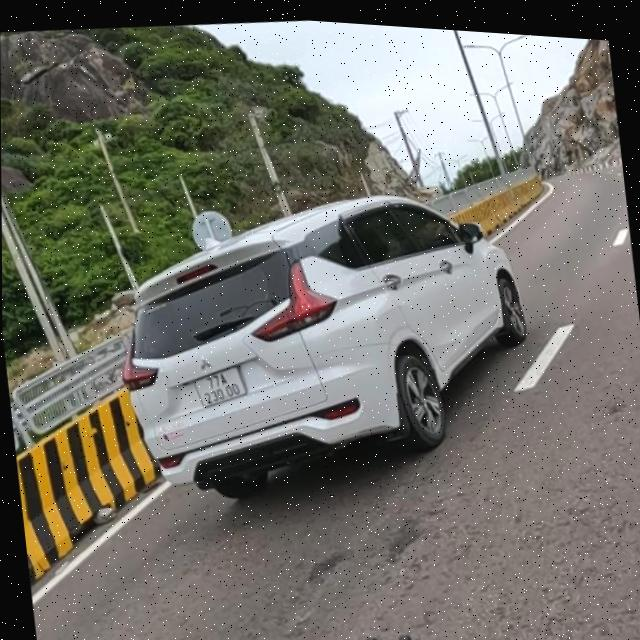car: (102, 161, 544, 528)
plate: (185, 357, 254, 417)
